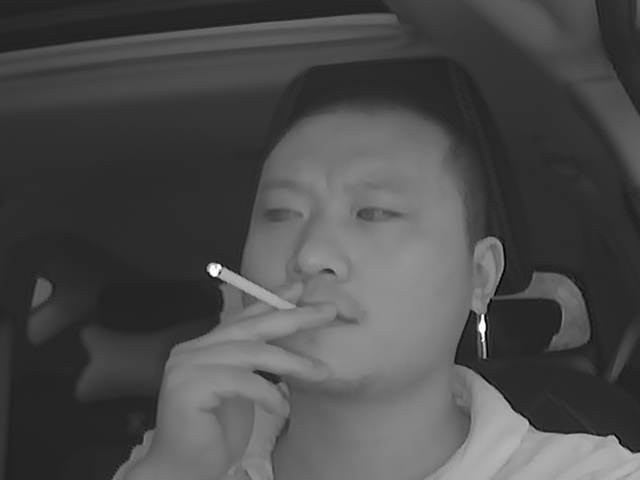hand: (177, 280, 331, 433)
